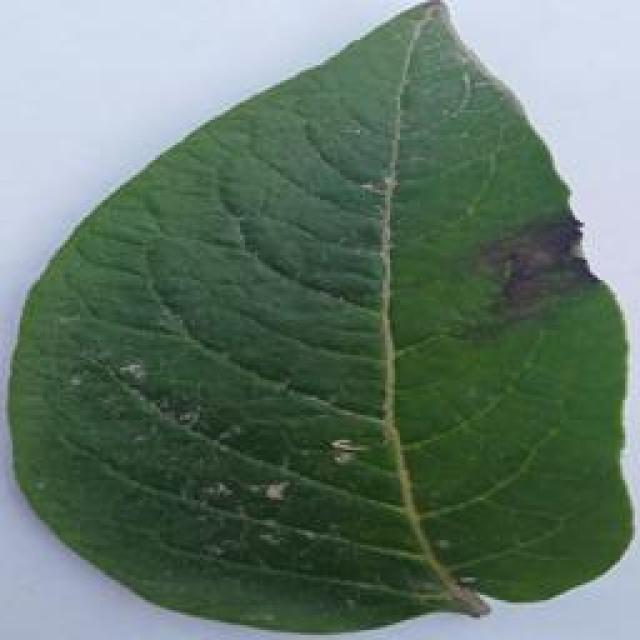Potato_Late_Blight: (8, 1, 624, 628)
